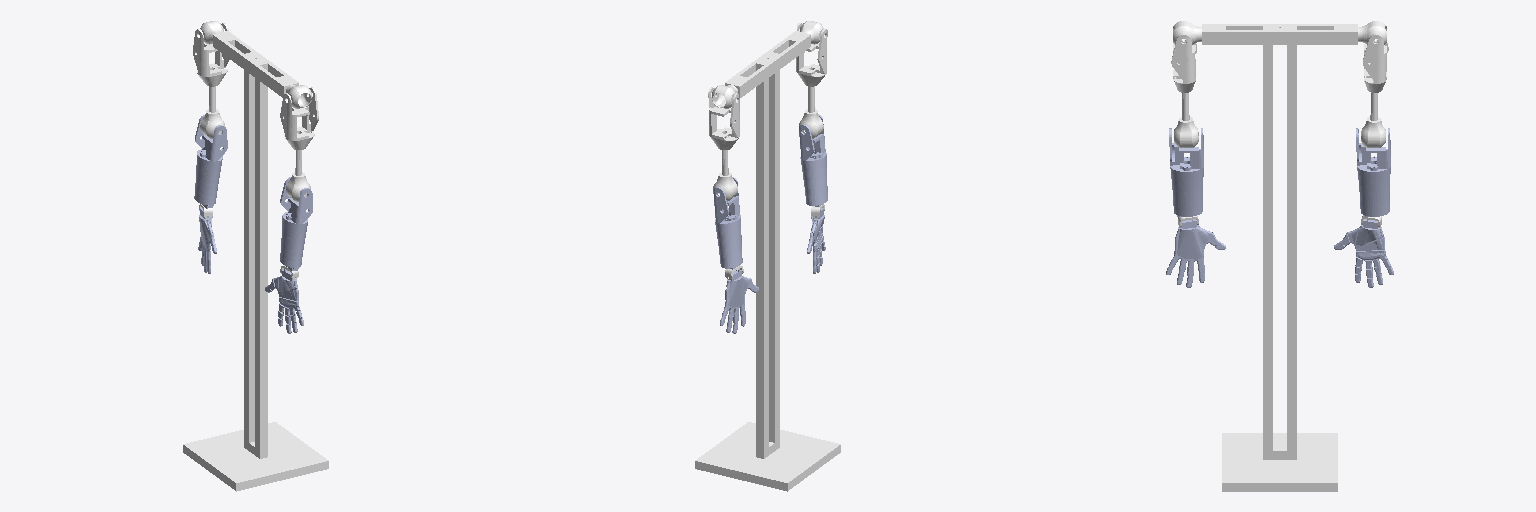
--- Render facts (derived) ---
3 views of the same robot in one strip: view 1: azimuth 30°, elevation 25°; view 2: azimuth 150°, elevation 25°; view 3: azimuth 270°, elevation 25° (orthographic).
Robot: gemini_description — 14 links, 13 joints (12 continuous, 1 fixed); root link world; default pose: all joints at 0.
Visible links, largest first — view 1: base_link, l_forearm, r_forearm, l_bicpet, r_bicept, l_hand, r_hand; view 2: base_link, r_forearm, l_forearm, r_bicept, r_hand, l_bicpet, l_hand; view 3: base_link, r_forearm, l_forearm, r_hand, l_hand, r_bicept, l_bicpet, r_elbow_ball, l_elbow_ball.
Link boxes in pixels (box(x1,y1,x2,y2)): base_link: box(183, 31, 328, 491); l_forearm: box(280, 177, 312, 270); r_forearm: box(194, 115, 227, 208); l_bicpet: box(280, 87, 318, 175); r_bicept: box(193, 23, 229, 112); l_hand: box(265, 269, 303, 333); r_hand: box(198, 208, 216, 273); base_link: box(695, 31, 840, 491); r_forearm: box(713, 177, 742, 269); l_forearm: box(799, 115, 827, 206); r_bicept: box(708, 87, 739, 175); r_hand: box(720, 269, 758, 333); l_bicpet: box(796, 23, 827, 112); l_hand: box(807, 208, 825, 273); base_link: box(1202, 24, 1357, 491); r_forearm: box(1356, 128, 1390, 216); l_forearm: box(1169, 128, 1203, 216); r_hand: box(1334, 219, 1393, 287); l_hand: box(1166, 219, 1225, 287); r_bicept: box(1363, 34, 1388, 120); l_bicpet: box(1171, 34, 1196, 120); r_elbow_ball: box(1361, 117, 1385, 147); l_elbow_ball: box(1174, 117, 1198, 147).
Bounding box of the posed robot: 0.3048 × 0.5945 × 1.28 m (x, y, z).
13 mesh visuals loaded from 13 distinct referenced files (13 binary STL).

robot.urdf — gemini_description:
<?xml version="1.0" encoding="utf-8"?>
<!-- This URDF was automatically created by SolidWorks to URDF Exporter! Originally created by Stephen Brawner ([email redacted]) 
     Commit Version: 1.5.1-0-g916b5db  Build Version: 1.5.7152.31018
     For more information, please see http://wiki.ros.org/sw_urdf_exporter -->
<robot
  name="gemini_description">
	
<!-- Used for fixing robot to Gazebo 'base_link' -->
  <link name="world"/>

  <joint name="fixed" type="fixed">
    <parent link="world"/>
    <child link="base_link"/>
  </joint>


  <link
    name="base_link">
    <inertial>
      <origin
        xyz="0.534196245581179 0.318340540936641 1.00075295664558"
        rpy="0 0 0" />
      <mass
        value="4.52933028478602" />
      <inertia
        ixx="0.972928286231666"
        ixy="-1.76112183995259E-18"
        ixz="-1.39343163695887E-18"
        iyy="0.0439598829889821"
        iyz="-1.26402728667595E-16"
        izz="0.965992471324959" />
    </inertial>
    <visual>
      <origin
        xyz="0 0 0"
        rpy="0 0 0" />
      <geometry>
        <mesh
          filename="package://gemini_description/meshes/base_link.STL" />
      </geometry>
      <material
        name="">
        <color
          rgba="1 1 1 1" />
      </material>
    </visual>
    <collision>
      <origin
        xyz="0 0 0"
        rpy="0 0 0" />
      <geometry>
        <mesh
          filename="package://gemini_description/meshes/base_link.STL" />
      </geometry>
    </collision>
  </link>
  <link
    name="r_shoulder_ball">
    <inertial>
      <origin
        xyz="6.2371143805251E-09 5.1601216632946E-09 0.0405440960537498"
        rpy="0 0 0" />
      <mass
        value="0.0544711802480257" />
      <inertia
        ixx="4.16386347275612E-05"
        ixy="-8.02979166423697E-11"
        ixz="-9.44432762026392E-12"
        iyy="4.62851153976195E-05"
        iyz="-3.59594411893369E-11"
        izz="3.82219033168237E-05" />
    </inertial>
    <visual>
      <origin
        xyz="0 0 0"
        rpy="0 0 0" />
      <geometry>
        <mesh
          filename="package://gemini_description/meshes/r_shoulder_ball.STL" />
      </geometry>
      <material
        name="">
        <color
          rgba="1 1 1 1" />
      </material>
    </visual>
    <collision>
      <origin
        xyz="0 0 0"
        rpy="0 0 0" />
      <geometry>
        <mesh
          filename="package://gemini_description/meshes/r_shoulder_ball.STL" />
      </geometry>
    </collision>
  </link>
  <joint
    name="rs1"
    type="continuous">
    <origin
      xyz="0.5342 -0.72092 1.1783"
      rpy="1.5708 0.0040924 0" />
    <parent
      link="base_link" />
    <child
      link="r_shoulder_ball" />
    <axis
      xyz="0 0 1" />
  </joint>
  <link
    name="r_bicept">
    <inertial>
      <origin
        xyz="-3.22171700650742E-07 2.47687296173194E-06 0.103443210779644"
        rpy="0 0 0" />
      <mass
        value="0.27245990707176" />
      <inertia
        ixx="0.000714949661933855"
        ixy="-1.1719557948945E-05"
        ixz="-2.95555807574608E-09"
        iyy="0.000573884895229664"
        iyz="-2.95084293669371E-08"
        izz="0.000255692784911415" />
    </inertial>
    <visual>
      <origin
        xyz="0 0 0"
        rpy="0 0 0" />
      <geometry>
        <mesh
          filename="package://gemini_description/meshes/r_bicept.STL" />
      </geometry>
      <material
        name="">
        <color
          rgba="1 1 1 1" />
      </material>
    </visual>
    <collision>
      <origin
        xyz="0 0 0"
        rpy="0 0 0" />
      <geometry>
        <mesh
          filename="package://gemini_description/meshes/r_bicept.STL" />
      </geometry>
    </collision>
  </link>
  <joint
    name="rs2"
    type="continuous">
    <origin
      xyz="0 0 0.029008"
      rpy="0 1.5481 -1.5708" />
    <parent
      link="r_shoulder_ball" />
    <child
      link="r_bicept" />
    <axis
      xyz="0 1 0" />
  </joint>
  <link
    name="r_elbow_ball">
    <inertial>
      <origin
        xyz="4.82088047260021E-09 6.76370104368829E-09 -0.0396882448554229"
        rpy="0 0 0" />
      <mass
        value="0.0544711765716635" />
      <inertia
        ixx="4.16386322117843E-05"
        ixy="-7.99853524786356E-11"
        ixz="-1.39495005403985E-11"
        iyy="4.62851096230032E-05"
        iyz="-3.77840023423479E-11"
        izz="3.82219023335048E-05" />
    </inertial>
    <visual>
      <origin
        xyz="0 0 0"
        rpy="0 0 0" />
      <geometry>
        <mesh
          filename="package://gemini_description/meshes/r_elbow_ball.STL" />
      </geometry>
      <material
        name="">
        <color
          rgba="1 1 1 1" />
      </material>
    </visual>
    <collision>
      <origin
        xyz="0 0 0"
        rpy="0 0 0" />
      <geometry>
        <mesh
          filename="package://gemini_description/meshes/r_elbow_ball.STL" />
      </geometry>
    </collision>
  </link>
  <joint
    name="re1"
    type="continuous">
    <origin
      xyz="0 0 0.24215"
      rpy="-3.1416 0 -0.00012242" />
    <parent
      link="r_bicept" />
    <child
      link="r_elbow_ball" />
    <axis
      xyz="0 0 1" />
  </joint>
  <link
    name="r_forearm">
    <inertial>
      <origin
        xyz="-0.0134758227402774 -0.133680447778059 -0.00117188051040784"
        rpy="0 0 0" />
      <mass
        value="0.399020633136462" />
      <inertia
        ixx="0.000800265445630862"
        ixy="-5.11977241866116E-05"
        ixz="8.94994643330829E-06"
        iyy="0.000304300255531216"
        iyz="-1.29246447280764E-05"
        izz="0.000582445526550102" />
    </inertial>
    <visual>
      <origin
        xyz="0 0 0"
        rpy="0 0 0" />
      <geometry>
        <mesh
          filename="package://gemini_description/meshes/r_forearm.STL" />
      </geometry>
      <material
        name="">
        <color
          rgba="0.792156862745098 0.819607843137255 0.933333333333333 1" />
      </material>
    </visual>
    <collision>
      <origin
        xyz="0 0 0"
        rpy="0 0 0" />
      <geometry>
        <mesh
          filename="package://gemini_description/meshes/r_forearm.STL" />
      </geometry>
    </collision>
  </link>
  <joint
    name="re2"
    type="continuous">
    <origin
      xyz="0 0 -0.05"
      rpy="1.5935 -0.0040913 -1.571" />
    <parent
      link="r_elbow_ball" />
    <child
      link="r_forearm" />
    <axis
      xyz="0.00021537 0.022713 0.99974" />
  </joint>
  <link
    name="r_wrist">
    <inertial>
      <origin
        xyz="0.0133544170175107 -6.99440505513849E-15 -1.18793863634892E-14"
        rpy="0 0 0" />
      <mass
        value="0.0120708298165578" />
      <inertia
        ixx="4.50218447918875E-06"
        ixy="7.90784665600694E-22"
        ixz="1.35988492703718E-21"
        iyy="4.73440053913696E-06"
        iyz="1.61995051162385E-20"
        izz="1.51423045487236E-06" />
    </inertial>
    <visual>
      <origin
        xyz="0 0 0"
        rpy="0 0 0" />
      <geometry>
        <mesh
          filename="package://gemini_description/meshes/r_wrist.STL" />
      </geometry>
      <material
        name="">
        <color
          rgba="1 1 1 1" />
      </material>
    </visual>
    <collision>
      <origin
        xyz="0 0 0"
        rpy="0 0 0" />
      <geometry>
        <mesh
          filename="package://gemini_description/meshes/r_wrist.STL" />
      </geometry>
    </collision>
  </link>
  <joint
    name="rw1"
    type="continuous">
    <origin
      xyz="-0.023654 -0.23732 0.0053241"
      rpy="0.2299 -0.022623 -1.6708" />
    <parent
      link="r_forearm" />
    <child
      link="r_wrist" />
    <axis
      xyz="1 0 0" />
  </joint>
  <link
    name="r_hand">
    <inertial>
      <origin
        xyz="0.0619058412967715 0.0045109063152311 0.000800345401573588"
        rpy="0 0 0" />
      <mass
        value="0.178955913251513" />
      <inertia
        ixx="0.000136528763256749"
        ixy="2.96325083363903E-05"
        ixz="2.81195853619585E-06"
        iyy="0.00026516103310724"
        iyz="5.30420772551096E-07"
        izz="0.000391206453836346" />
    </inertial>
    <visual>
      <origin
        xyz="0 0 0"
        rpy="0 0 0" />
      <geometry>
        <mesh
          filename="package://gemini_description/meshes/r_hand.STL" />
      </geometry>
      <material
        name="">
        <color
          rgba="0.792156862745098 0.819607843137255 0.933333333333333 1" />
      </material>
    </visual>
    <collision>
      <origin
        xyz="0 0 0"
        rpy="0 0 0" />
      <geometry>
        <mesh
          filename="package://gemini_description/meshes/r_hand.STL" />
      </geometry>
    </collision>
  </link>
  <joint
    name="rw2"
    type="continuous">
    <origin
      xyz="0.028848 0 0"
      rpy="1.5708 0 0.091473" />
    <parent
      link="r_wrist" />
    <child
      link="r_hand" />
    <axis
      xyz="0 1 0" />
  </joint>
  <link
    name="l_shoulder_ball">
    <inertial>
      <origin
        xyz="4.7354530297028E-09 4.96404783945081E-09 -0.0394697291071835"
        rpy="0 0 0" />
      <mass
        value="0.054471175913326" />
      <inertia
        ixx="4.16386318474759E-05"
        ixy="-8.00732427287903E-11"
        ixz="-1.20199059472294E-11"
        iyy="4.62851094387098E-05"
        iyz="-3.59209946397337E-11"
        izz="3.82219025568896E-05" />
    </inertial>
    <visual>
      <origin
        xyz="0 0 0"
        rpy="0 0 0" />
      <geometry>
        <mesh
          filename="package://gemini_description/meshes/l_shoulder_ball.STL" />
      </geometry>
      <material
        name="">
        <color
          rgba="1 1 1 1" />
      </material>
    </visual>
    <collision>
      <origin
        xyz="0 0 0"
        rpy="0 0 0" />
      <geometry>
        <mesh
          filename="package://gemini_description/meshes/l_shoulder_ball.STL" />
      </geometry>
    </collision>
  </link>
  <joint
    name="ls1"
    type="continuous">
    <origin
      xyz="0.5342 -1.2006 1.1783"
      rpy="1.5708 -0.0040924 3.1416" />
    <parent
      link="base_link" />
    <child
      link="l_shoulder_ball" />
    <axis
      xyz="0 0 1" />
  </joint>
  <link
    name="l_bicpet">
    <inertial>
      <origin
        xyz="-0.00100559107551246 2.46885547117159E-06 0.103420375905642"
        rpy="0 0 0" />
      <mass
        value="0.272459883078294" />
      <inertia
        ixx="0.000714949499290933"
        ixy="-1.17195329165913E-05"
        ixz="-2.94068577364188E-09"
        iyy="0.00057388488980549"
        iyz="-2.95939815462351E-08"
        izz="0.000255692740695557" />
    </inertial>
    <visual>
      <origin
        xyz="0 0 0"
        rpy="0 0 0" />
      <geometry>
        <mesh
          filename="package://gemini_description/meshes/l_bicpet.STL" />
      </geometry>
      <material
        name="">
        <color
          rgba="1 1 1 1" />
      </material>
    </visual>
    <collision>
      <origin
        xyz="0 0 0"
        rpy="0 0 0" />
      <geometry>
        <mesh
          filename="package://gemini_description/meshes/l_bicpet.STL" />
      </geometry>
    </collision>
  </link>
  <joint
    name="ls2"
    type="continuous">
    <origin
      xyz="0 0 -0.05"
      rpy="0 -1.5481 1.5708" />
    <parent
      link="l_shoulder_ball" />
    <child
      link="l_bicpet" />
    <axis
      xyz="0 1 0" />
  </joint>
  <link
    name="l_elbow_ball">
    <inertial>
      <origin
        xyz="5.579627426755E-09 3.33881799985392E-09 -0.0411716393287667"
        rpy="0 0 0" />
      <mass
        value="0.0544711805998191" />
      <inertia
        ixx="4.16386350282785E-05"
        ixy="-8.01710968800043E-11"
        ixz="-7.0816695151809E-12"
        iyy="4.6285115671902E-05"
        iyz="-3.51591159105833E-11"
        izz="3.82219030866655E-05" />
    </inertial>
    <visual>
      <origin
        xyz="0 0 0"
        rpy="0 0 0" />
      <geometry>
        <mesh
          filename="package://gemini_description/meshes/l_elbow_ball.STL" />
      </geometry>
      <material
        name="">
        <color
          rgba="1 1 1 1" />
      </material>
    </visual>
    <collision>
      <origin
        xyz="0 0 0"
        rpy="0 0 0" />
      <geometry>
        <mesh
          filename="package://gemini_description/meshes/l_elbow_ball.STL" />
      </geometry>
    </collision>
  </link>
  <joint
    name="le1"
    type="continuous">
    <origin
      xyz="-0.0010053 0 0.24065"
      rpy="-3.1416 0 0.00012242" />
    <parent
      link="l_bicpet" />
    <child
      link="l_elbow_ball" />
    <axis
      xyz="0 0 1" />
  </joint>
  <link
    name="l_forearm">
    <inertial>
      <origin
        xyz="-0.0134818917302594 -0.135163444602353 -0.00225492505633373"
        rpy="0 0 0" />
      <mass
        value="0.399020633136461" />
      <inertia
        ixx="0.000800265445630859"
        ixy="-5.11977241866111E-05"
        ixz="8.94994643330891E-06"
        iyy="0.000304300255531217"
        iyz="-1.29246447280753E-05"
        izz="0.000582445526550097" />
    </inertial>
    <visual>
      <origin
        xyz="0 0 0"
        rpy="0 0 0" />
      <geometry>
        <mesh
          filename="package://gemini_description/meshes/l_forearm.STL" />
      </geometry>
      <material
        name="">
        <color
          rgba="0.792156862745098 0.819607843137255 0.933333333333333 1" />
      </material>
    </visual>
    <collision>
      <origin
        xyz="0 0 0"
        rpy="0 0 0" />
      <geometry>
        <mesh
          filename="package://gemini_description/meshes/l_forearm.STL" />
      </geometry>
    </collision>
  </link>
  <joint
    name="le2"
    type="continuous">
    <origin
      xyz="0 0 -0.05"
      rpy="1.5481 -0.0040913 -1.5706" />
    <parent
      link="l_elbow_ball" />
    <child
      link="l_forearm" />
    <axis
      xyz="0.00021537 0.022713 -0.99974" />
  </joint>
  <link
    name="l_wrist">
    <inertial>
      <origin
        xyz="0.0146201857300534 -5.55111512312578E-17 6.66133814775094E-16"
        rpy="0 0 0" />
      <mass
        value="0.0120708298165579" />
      <inertia
        ixx="4.50218447918877E-06"
        ixy="6.41892155341149E-22"
        ixz="8.87068488901867E-21"
        iyy="4.73440053913698E-06"
        iyz="1.94552880072472E-20"
        izz="1.51423045487238E-06" />
    </inertial>
    <visual>
      <origin
        xyz="0 0 0"
        rpy="0 0 0" />
      <geometry>
        <mesh
          filename="package://gemini_description/meshes/l_wrist.STL" />
      </geometry>
      <material
        name="">
        <color
          rgba="1 1 1 1" />
      </material>
    </visual>
    <collision>
      <origin
        xyz="0 0 0"
        rpy="0 0 0" />
      <geometry>
        <mesh
          filename="package://gemini_description/meshes/l_wrist.STL" />
      </geometry>
    </collision>
  </link>
  <joint
    name="lw1"
    type="continuous">
    <origin
      xyz="-0.023534 -0.23755 -0.0053292"
      rpy="-0.2299 0.022623 -1.6708" />
    <parent
      link="l_forearm" />
    <child
      link="l_wrist" />
    <axis
      xyz="1 0 0" />
  </joint>
  <link
    name="l_hand">
    <inertial>
      <origin
        xyz="0.0619078942618763 0.00451726047115408 0.000800417664037212"
        rpy="0 0 0" />
      <mass
        value="0.178970864334337" />
      <inertia
        ixx="0.00013652753958862"
        ixy="2.96471792691893E-05"
        ixz="2.8119687235718E-06"
        iyy="0.000265184422458029"
        iyz="5.35801832253925E-07"
        izz="0.000391228773611264" />
    </inertial>
    <visual>
      <origin
        xyz="0 0 0"
        rpy="0 0 0" />
      <geometry>
        <mesh
          filename="package://gemini_description/meshes/l_hand.STL" />
      </geometry>
      <material
        name="">
        <color
          rgba="0.792156862745098 0.819607843137255 0.933333333333333 1" />
      </material>
    </visual>
    <collision>
      <origin
        xyz="0 0 0"
        rpy="0 0 0" />
      <geometry>
        <mesh
          filename="package://gemini_description/meshes/l_hand.STL" />
      </geometry>
    </collision>
  </link>
  <joint
    name="lw2"
    type="continuous">
    <origin
      xyz="0.030114 0 0"
      rpy="-1.5708 0 0.091473" />
    <parent
      link="l_wrist" />
    <child
      link="l_hand" />
    <axis
      xyz="0 1 0" />
  </joint>
<transmission name="trans_rs1">
        <type>transmission_interface/SimpleTransmission</type>
        <joint name="rs1">
            <hardwareInterface>hardware_interface/EffortJointInterface</hardwareInterface>
        </joint>
        <actuator name="rs1_motor">
            <hardwareInterface>hardware_interface/EffortJointInterface</hardwareInterface>
            <mechanicalReduction>1</mechanicalReduction>
        </actuator>
    </transmission>
    <transmission name="trans_rs2">
        <type>transmission_interface/SimpleTransmission</type>
        <joint name="rs2">
            <hardwareInterface>hardware_interface/EffortJointInterface</hardwareInterface>
        </joint>
        <actuator name="rs2_motor">
            <hardwareInterface>hardware_interface/EffortJointInterface</hardwareInterface>
            <mechanicalReduction>1</mechanicalReduction>
        </actuator>
    </transmission>
    <transmission name="trans_re1">
        <type>transmission_interface/SimpleTransmission</type>
        <joint name="re1">
            <hardwareInterface>hardware_interface/EffortJointInterface</hardwareInterface>
        </joint>
        <actuator name="re1_motor">
            <hardwareInterface>hardware_interface/EffortJointInterface</hardwareInterface>
            <mechanicalReduction>1</mechanicalReduction>
        </actuator>
    </transmission>
    <transmission name="trans_re2">
        <type>transmission_interface/SimpleTransmission</type>
        <joint name="re2">
            <hardwareInterface>hardware_interface/EffortJointInterface</hardwareInterface>
        </joint>
        <actuator name="re2_motor">
            <hardwareInterface>hardware_interface/EffortJointInterface</hardwareInterface>
            <mechanicalReduction>1</mechanicalReduction>
        </actuator>
    </transmission>
    <transmission name="trans_rw1">
        <type>transmission_interface/SimpleTransmission</type>
        <joint name="rw1">
            <hardwareInterface>hardware_interface/EffortJointInterface</hardwareInterface>
        </joint>
        <actuator name="rw1_motor">
            <hardwareInterface>hardware_interface/EffortJointInterface</hardwareInterface>
            <mechanicalReduction>1</mechanicalReduction>
        </actuator>
    </transmission>
    <transmission name="trans_rw2">
        <type>transmission_interface/SimpleTransmission</type>
        <joint name="rw2">
            <hardwareInterface>hardware_interface/EffortJointInterface</hardwareInterface>
        </joint>
        <actuator name="rw2_motor">
            <hardwareInterface>hardware_interface/EffortJointInterface</hardwareInterface>
            <mechanicalReduction>1</mechanicalReduction>
        </actuator>
    </transmission>
    <transmission name="trans_ls1">
        <type>transmission_interface/SimpleTransmission</type>
        <joint name="ls1">
            <hardwareInterface>hardware_interface/EffortJointInterface</hardwareInterface>
        </joint>
        <actuator name="ls1_motor">
            <hardwareInterface>hardware_interface/EffortJointInterface</hardwareInterface>
            <mechanicalReduction>1</mechanicalReduction>
        </actuator>
    </transmission>
    <transmission name="trans_ls2">
        <type>transmission_interface/SimpleTransmission</type>
        <joint name="ls2">
            <hardwareInterface>hardware_interface/EffortJointInterface</hardwareInterface>
        </joint>
        <actuator name="ls2_motor">
            <hardwareInterface>hardware_interface/EffortJointInterface</hardwareInterface>
            <mechanicalReduction>1</mechanicalReduction>
        </actuator>
    </transmission>
    <transmission name="trans_le1">
        <type>transmission_interface/SimpleTransmission</type>
        <joint name="le1">
            <hardwareInterface>hardware_interface/EffortJointInterface</hardwareInterface>
        </joint>
        <actuator name="le1_motor">
            <hardwareInterface>hardware_interface/EffortJointInterface</hardwareInterface>
            <mechanicalReduction>1</mechanicalReduction>
        </actuator>
    </transmission>
    <transmission name="trans_le2">
        <type>transmission_interface/SimpleTransmission</type>
        <joint name="le2">
            <hardwareInterface>hardware_interface/EffortJointInterface</hardwareInterface>
        </joint>
        <actuator name="le2_motor">
            <hardwareInterface>hardware_interface/EffortJointInterface</hardwareInterface>
            <mechanicalReduction>1</mechanicalReduction>
        </actuator>
    </transmission>
    <transmission name="trans_lw1">
        <type>transmission_interface/SimpleTransmission</type>
        <joint name="lw1">
            <hardwareInterface>hardware_interface/EffortJointInterface</hardwareInterface>
        </joint>
        <actuator name="lw1_motor">
            <hardwareInterface>hardware_interface/EffortJointInterface</hardwareInterface>
            <mechanicalReduction>1</mechanicalReduction>
        </actuator>
    </transmission>
    <transmission name="trans_lw2">
        <type>transmission_interface/SimpleTransmission</type>
        <joint name="lw2">
            <hardwareInterface>hardware_interface/EffortJointInterface</hardwareInterface>
        </joint>
        <actuator name="lw2_motor">
            <hardwareInterface>hardware_interface/EffortJointInterface</hardwareInterface>
            <mechanicalReduction>1</mechanicalReduction>
        </actuator>
    </transmission>
    <gazebo>
        <plugin name="gazebo_ros_control" filename="libgazebo_ros_control.so">
            <robotNamespace>/</robotNamespace>
        </plugin>
    </gazebo>
    <transmission name="trans_rs1">
        <type>transmission_interface/SimpleTransmission</type>
        <joint name="rs1">
            <hardwareInterface>hardware_interface/EffortJointInterface</hardwareInterface>
        </joint>
        <actuator name="rs1_motor">
            <hardwareInterface>hardware_interface/EffortJointInterface</hardwareInterface>
            <mechanicalReduction>1</mechanicalReduction>
        </actuator>
    </transmission>
    <transmission name="trans_rs2">
        <type>transmission_interface/SimpleTransmission</type>
        <joint name="rs2">
            <hardwareInterface>hardware_interface/EffortJointInterface</hardwareInterface>
        </joint>
        <actuator name="rs2_motor">
            <hardwareInterface>hardware_interface/EffortJointInterface</hardwareInterface>
            <mechanicalReduction>1</mechanicalReduction>
        </actuator>
    </transmission>
    <transmission name="trans_re1">
        <type>transmission_interface/SimpleTransmission</type>
        <joint name="re1">
            <hardwareInterface>hardware_interface/EffortJointInterface</hardwareInterface>
        </joint>
        <actuator name="re1_motor">
            <hardwareInterface>hardware_interface/EffortJointInterface</hardwareInterface>
            <mechanicalReduction>1</mechanicalReduction>
        </actuator>
    </transmission>
    <transmission name="trans_re2">
        <type>transmission_interface/SimpleTransmission</type>
        <joint name="re2">
            <hardwareInterface>hardware_interface/EffortJointInterface</hardwareInterface>
        </joint>
        <actuator name="re2_motor">
            <hardwareInterface>hardware_interface/EffortJointInterface</hardwareInterface>
            <mechanicalReduction>1</mechanicalReduction>
        </actuator>
    </transmission>
    <transmission name="trans_rw1">
        <type>transmission_interface/SimpleTransmission</type>
        <joint name="rw1">
            <hardwareInterface>hardware_interface/EffortJointInterface</hardwareInterface>
        </joint>
        <actuator name="rw1_motor">
            <hardwareInterface>hardware_interface/EffortJointInterface</hardwareInterface>
            <mechanicalReduction>1</mechanicalReduction>
        </actuator>
    </transmission>
    <transmission name="trans_rw2">
        <type>transmission_interface/SimpleTransmission</type>
        <joint name="rw2">
            <hardwareInterface>hardware_interface/EffortJointInterface</hardwareInterface>
        </joint>
        <actuator name="rw2_motor">
            <hardwareInterface>hardware_interface/EffortJointInterface</hardwareInterface>
            <mechanicalReduction>1</mechanicalReduction>
        </actuator>
    </transmission>
    <transmission name="trans_ls1">
        <type>transmission_interface/SimpleTransmission</type>
        <joint name="ls1">
            <hardwareInterface>hardware_interface/EffortJointInterface</hardwareInterface>
        </joint>
        <actuator name="ls1_motor">
            <hardwareInterface>hardware_interface/EffortJointInterface</hardwareInterface>
            <mechanicalReduction>1</mechanicalReduction>
        </actuator>
    </transmission>
    <transmission name="trans_ls2">
        <type>transmission_interface/SimpleTransmission</type>
        <joint name="ls2">
            <hardwareInterface>hardware_interface/EffortJointInterface</hardwareInterface>
        </joint>
        <actuator name="ls2_motor">
            <hardwareInterface>hardware_interface/EffortJointInterface</hardwareInterface>
            <mechanicalReduction>1</mechanicalReduction>
        </actuator>
    </transmission>
    <transmission name="trans_le1">
        <type>transmission_interface/SimpleTransmission</type>
        <joint name="le1">
            <hardwareInterface>hardware_interface/EffortJointInterface</hardwareInterface>
        </joint>
        <actuator name="le1_motor">
            <hardwareInterface>hardware_interface/EffortJointInterface</hardwareInterface>
            <mechanicalReduction>1</mechanicalReduction>
        </actuator>
    </transmission>
    <transmission name="trans_le2">
        <type>transmission_interface/SimpleTransmission</type>
        <joint name="le2">
            <hardwareInterface>hardware_interface/EffortJointInterface</hardwareInterface>
        </joint>
        <actuator name="le2_motor">
            <hardwareInterface>hardware_interface/EffortJointInterface</hardwareInterface>
            <mechanicalReduction>1</mechanicalReduction>
        </actuator>
    </transmission>
    <transmission name="trans_lw1">
        <type>transmission_interface/SimpleTransmission</type>
        <joint name="lw1">
            <hardwareInterface>hardware_interface/EffortJointInterface</hardwareInterface>
        </joint>
        <actuator name="lw1_motor">
            <hardwareInterface>hardware_interface/EffortJointInterface</hardwareInterface>
            <mechanicalReduction>1</mechanicalReduction>
        </actuator>
    </transmission>
    <transmission name="trans_lw2">
        <type>transmission_interface/SimpleTransmission</type>
        <joint name="lw2">
            <hardwareInterface>hardware_interface/EffortJointInterface</hardwareInterface>
        </joint>
        <actuator name="lw2_motor">
            <hardwareInterface>hardware_interface/EffortJointInterface</hardwareInterface>
            <mechanicalReduction>1</mechanicalReduction>
        </actuator>
    </transmission>
    <gazebo>
        <plugin name="gazebo_ros_control" filename="libgazebo_ros_control.so">
            <robotNamespace>/</robotNamespace>
        </plugin>
    </gazebo>
</robot>
